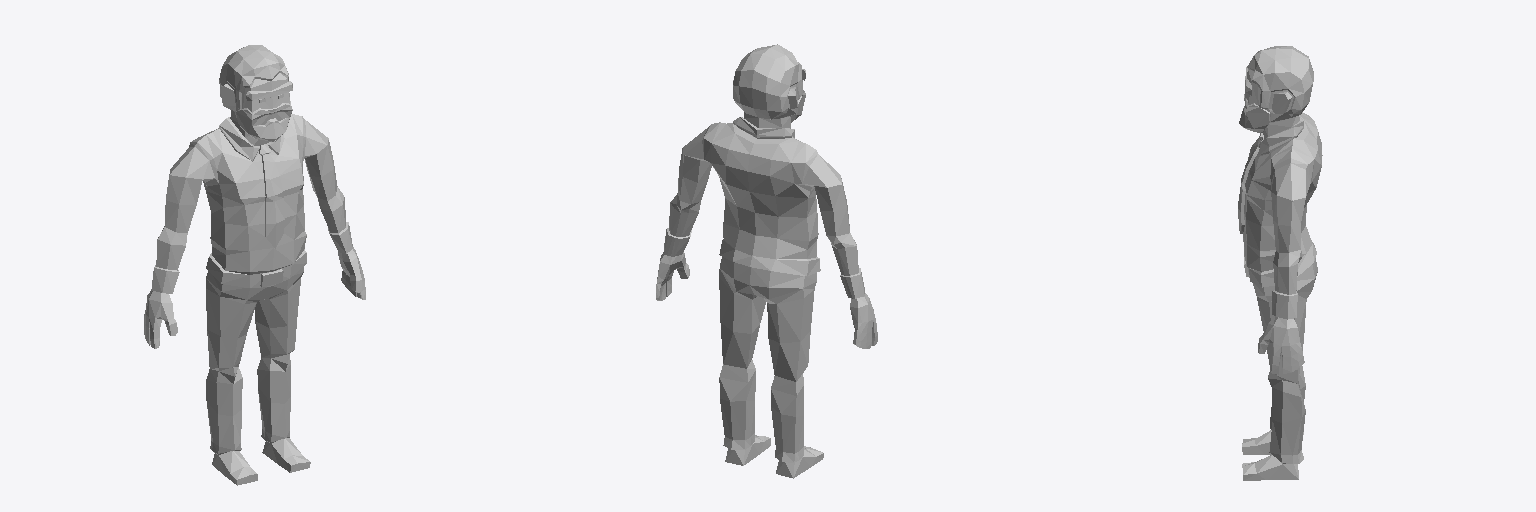
Rendered from male_business_shirt_standing.obj.
The picture shows the model from 3 angles: view 1: azimuth 30°, elevation 25°; view 2: azimuth 150°, elevation 25°; view 3: azimuth 270°, elevation 25°; orthographic projection.
Parts seen in each view (by area): view 1: Character_BusinessMan_Shirt_Mesh.019; view 2: Character_BusinessMan_Shirt_Mesh.019; view 3: Character_BusinessMan_Shirt_Mesh.019.
Boxes of the visible parts, <box> form: Character_BusinessMan_Shirt_Mesh.019: <box>144,45,365,485</box>; Character_BusinessMan_Shirt_Mesh.019: <box>656,44,877,478</box>; Character_BusinessMan_Shirt_Mesh.019: <box>1238,46,1322,480</box>.
Bounding box in the file's own units: 0.9807 × 1.83 × 0.3395.